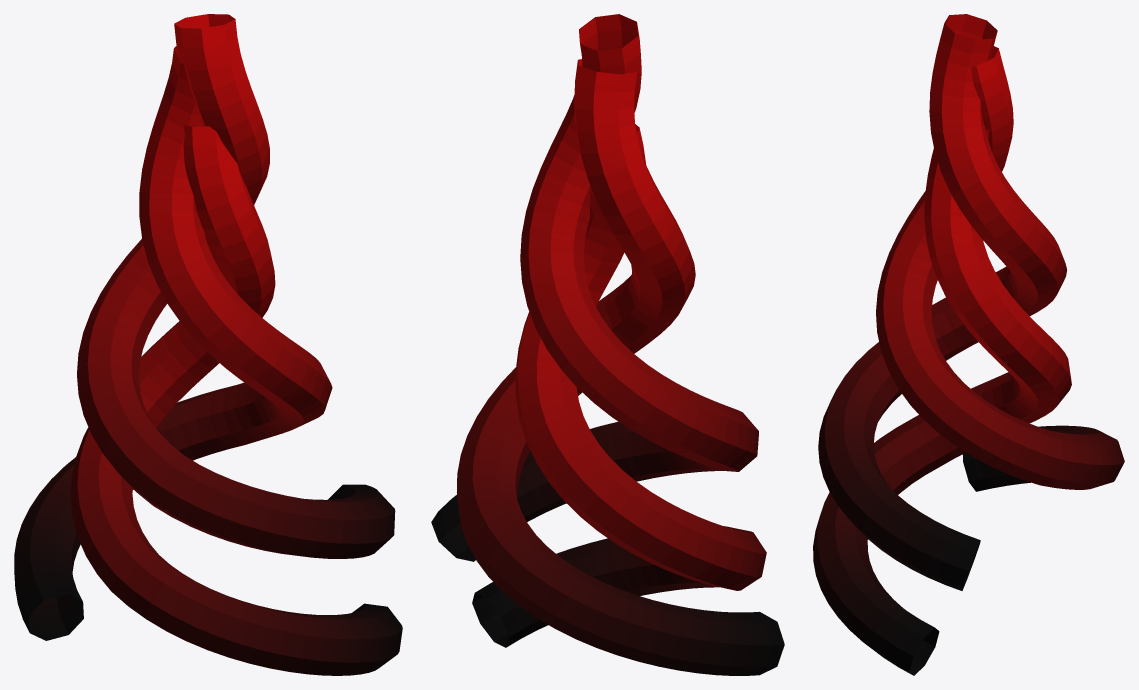
3 views of the same model, side by side, from view 1: azimuth 30°, elevation 25°; view 2: azimuth 150°, elevation 25°; view 3: azimuth 270°, elevation 25° (orthographic). The views are drawn at different scales.
Parts seen in each view (by area): view 1: vfx_model95; view 2: vfx_model95; view 3: vfx_model95.
Part boxes in pixels (box(x1,y1,x2,y2)): vfx_model95: box(14, 14, 402, 675); vfx_model95: box(431, 14, 784, 675); vfx_model95: box(813, 14, 1124, 675).
Size of the model in its own units: 70.52 by 128 by 60.9.
